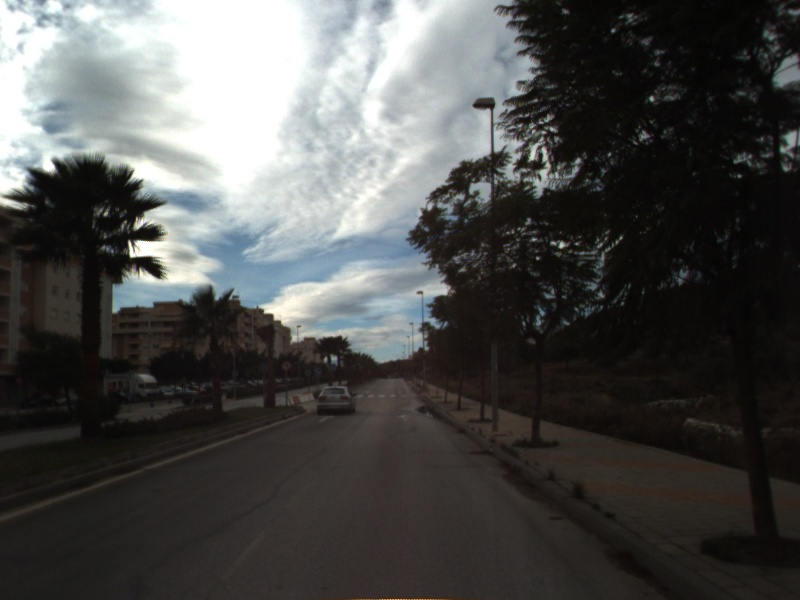STRAIGHT: (316, 413, 337, 424)
